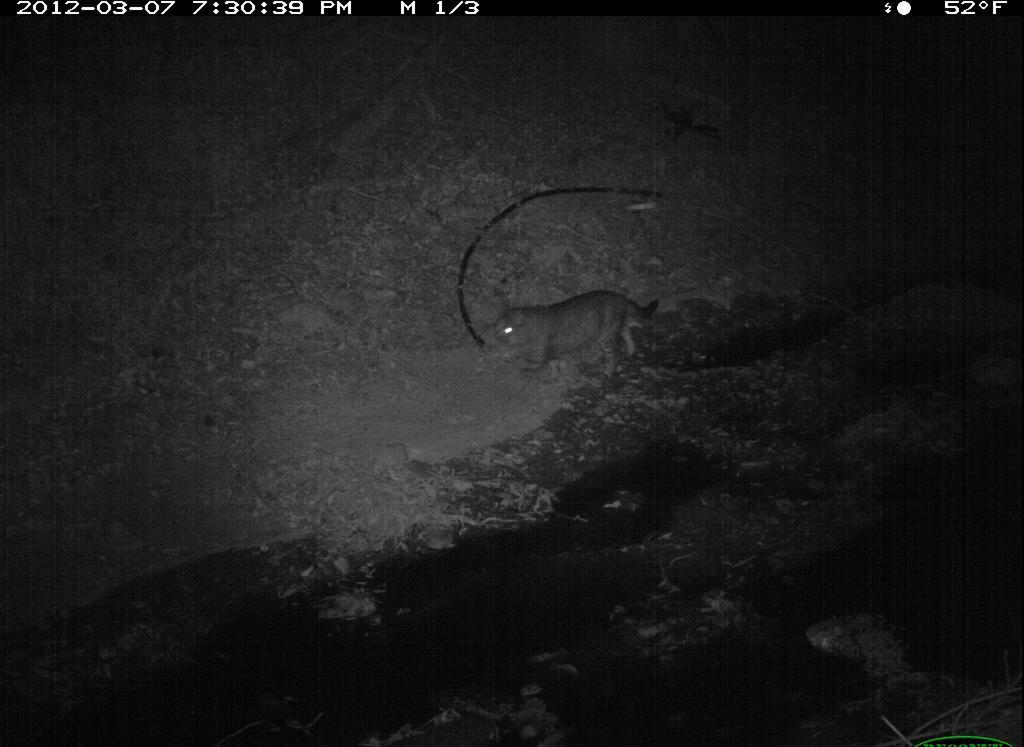cat: (486, 281, 675, 384)
